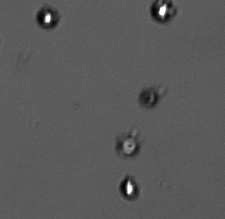Dead Cell: (136, 87, 159, 108)
Living Cell: (114, 131, 141, 158), (34, 4, 62, 30), (149, 1, 177, 23), (117, 175, 141, 200)
